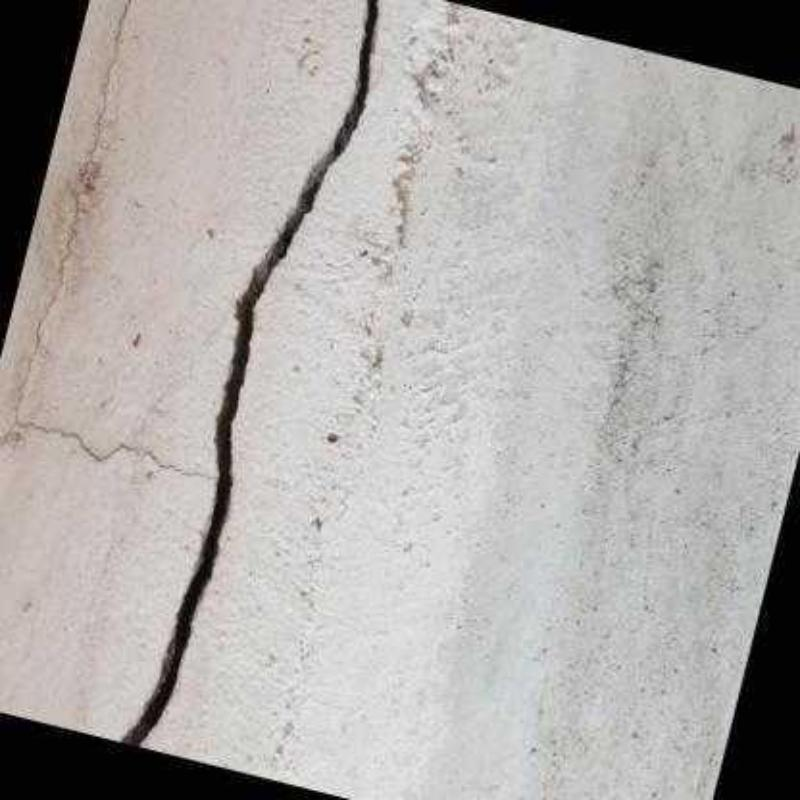pothole: (121, 1, 380, 747), (13, 2, 215, 482)
